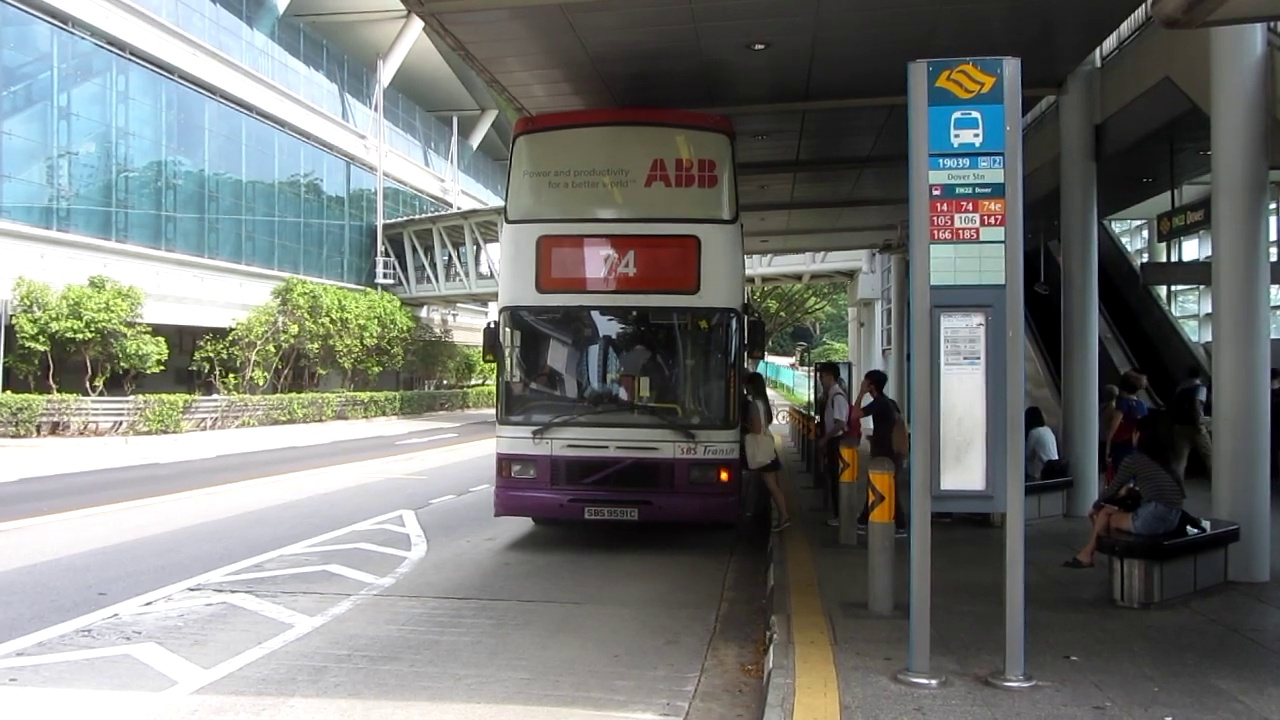bus panel: (533, 231, 704, 298)
